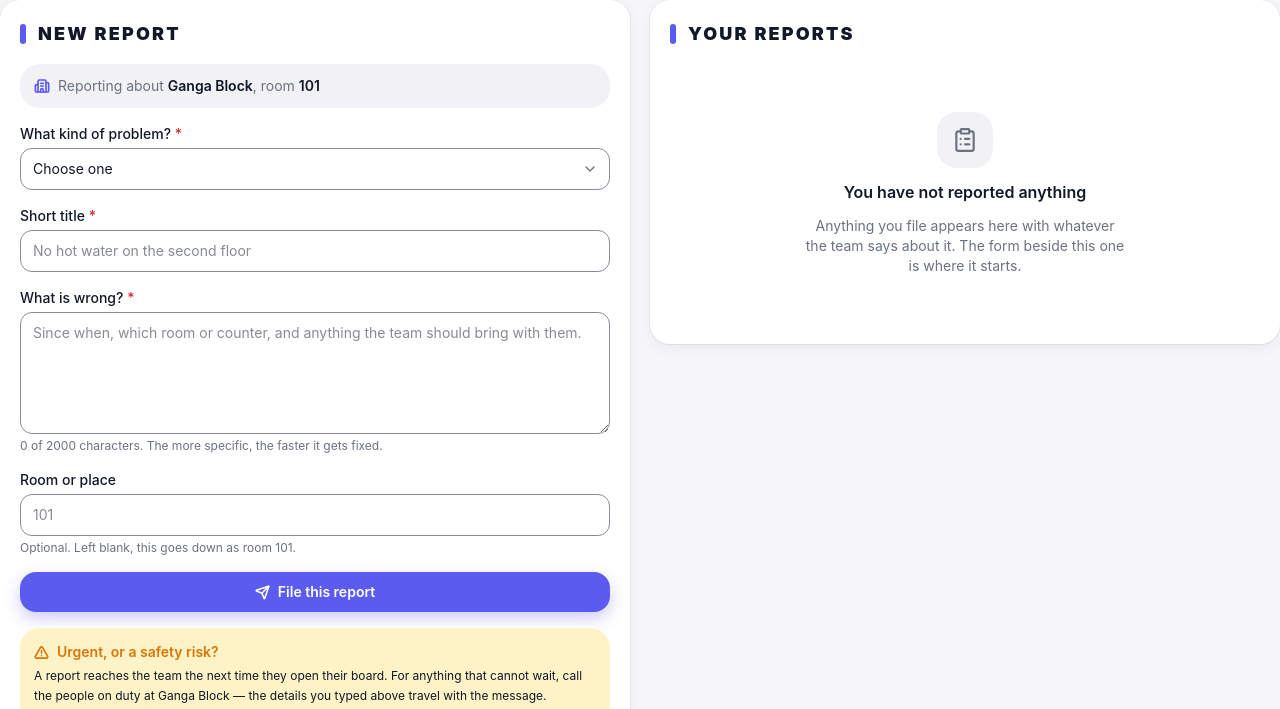
Test: ReportPanel › validates before spending a request, and says which field is wrong
Expected: the dropdown labelled "What kind of problem? *" is shown, [20, 148, 610, 190]
Click the button "File this report" at (315, 592), box [20, 572, 610, 612]
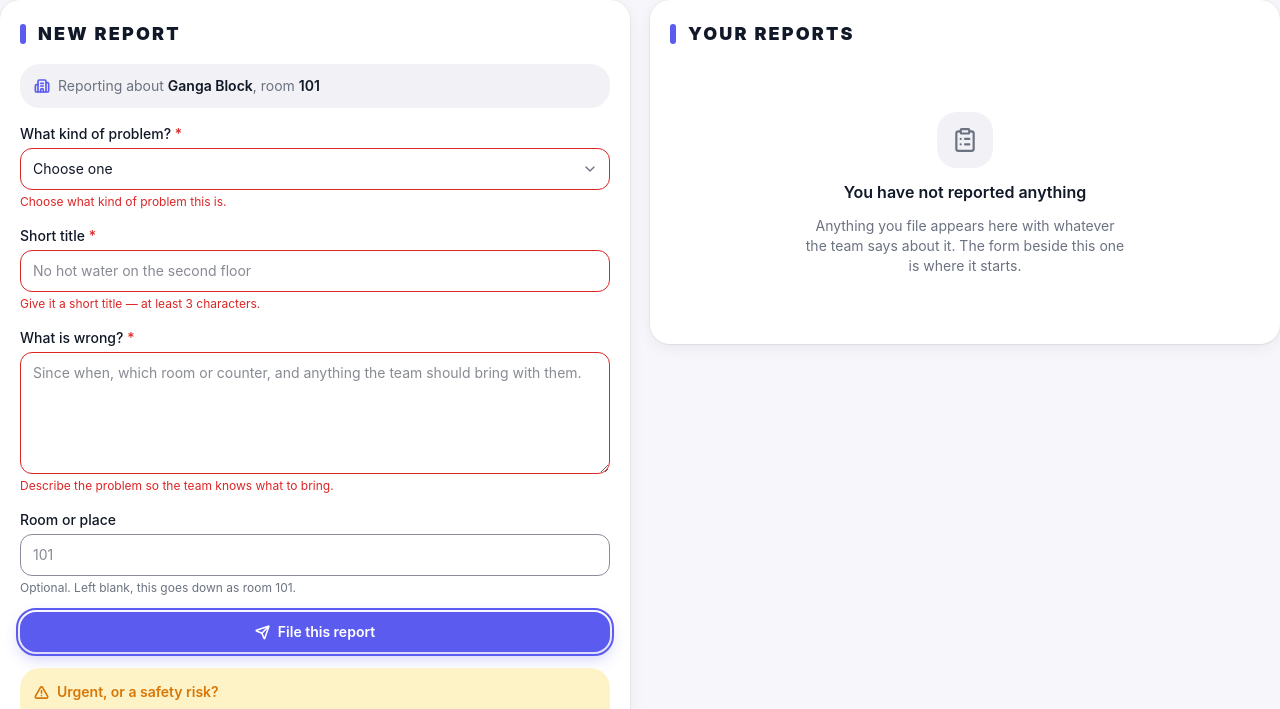
Expected: the text "Choose what kind of problem this is." is shown, [20, 194, 227, 209]
Expected: the text "Give it a short title — at least 3 characters." is shown, [20, 296, 260, 311]
Expected: the text "Describe the problem so the team knows what to bring." is shown, [20, 478, 334, 493]
